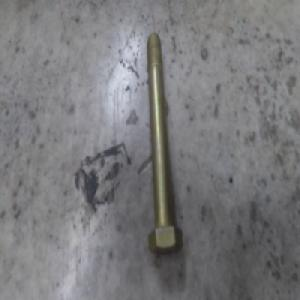Bolt: (147, 35, 184, 254)
